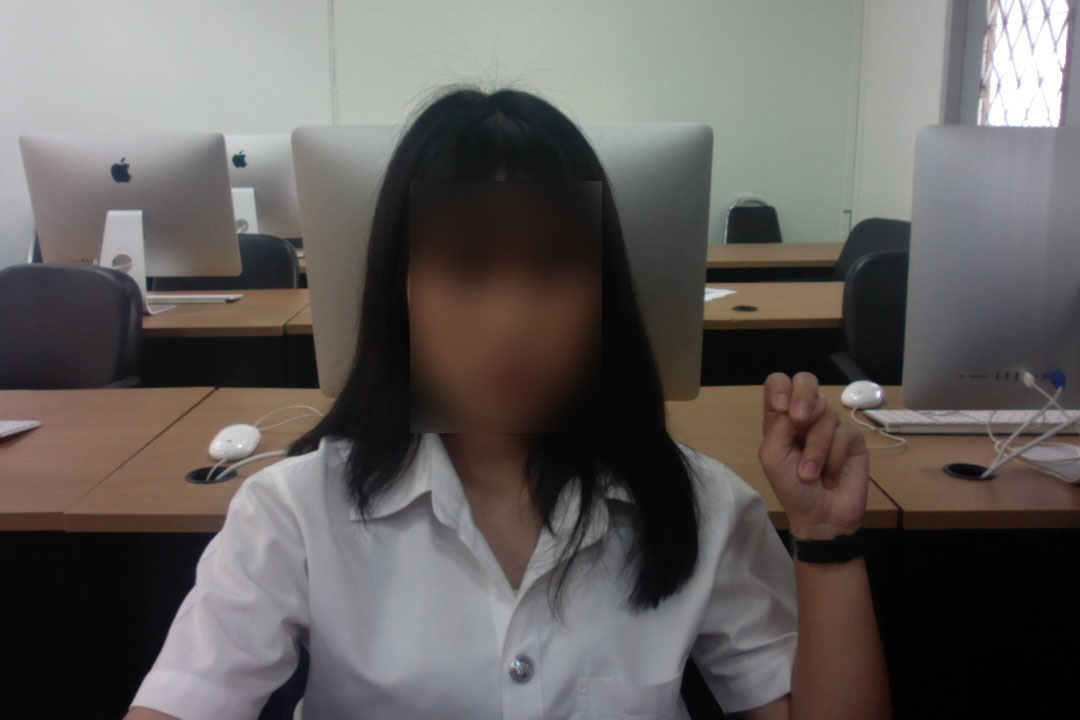nor: (751, 360, 876, 531)
